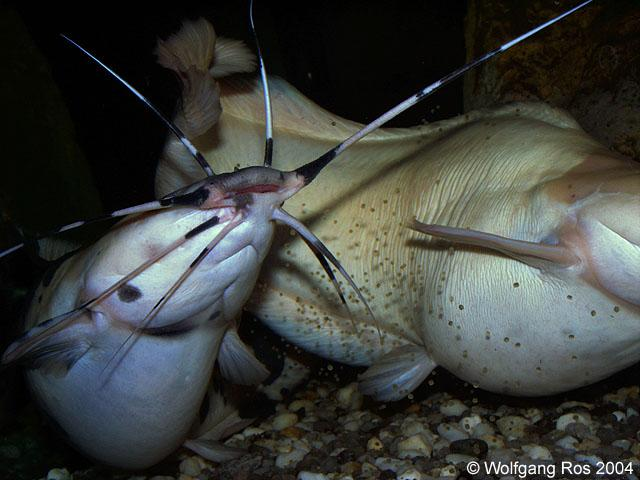Mulut: (182, 134, 308, 229)
Sirip Dada: (393, 202, 591, 299), (212, 304, 302, 424), (0, 302, 112, 394)
Sirip Perut: (332, 329, 442, 415)
